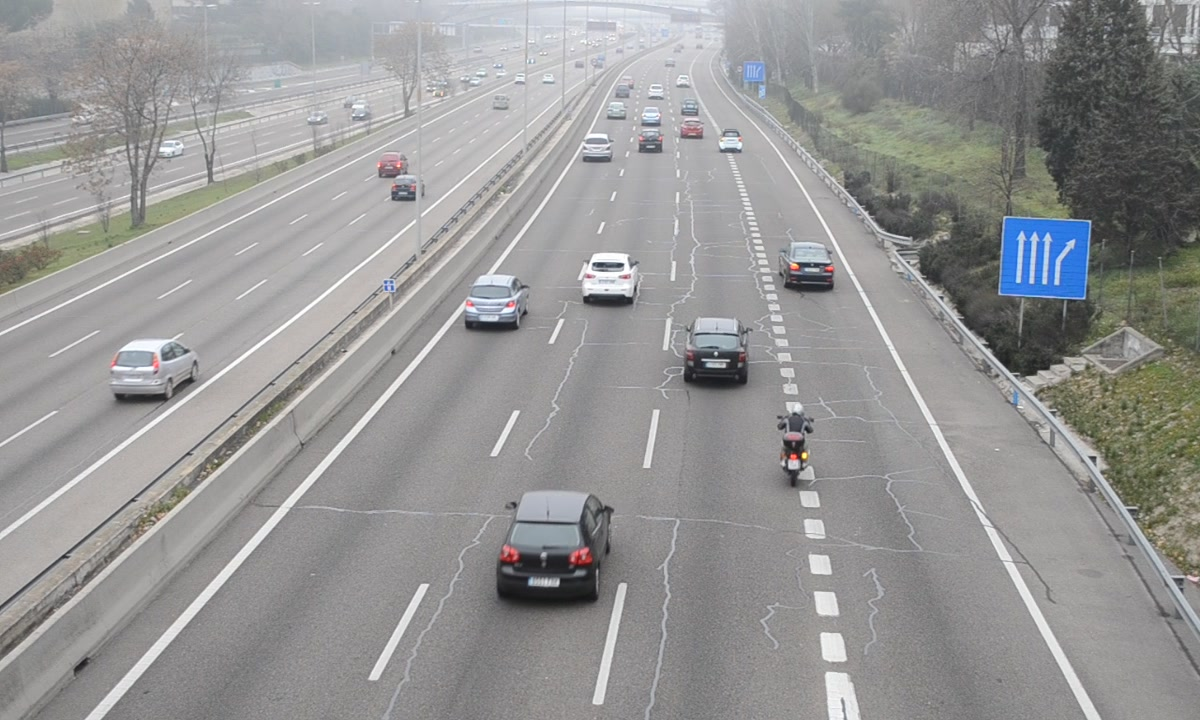car: (497, 492, 611, 601), (683, 318, 747, 384), (464, 274, 526, 326), (581, 253, 640, 302), (779, 242, 837, 289), (581, 132, 613, 163), (718, 127, 742, 154), (639, 128, 663, 154)
motorcycle: (776, 405, 817, 490)
